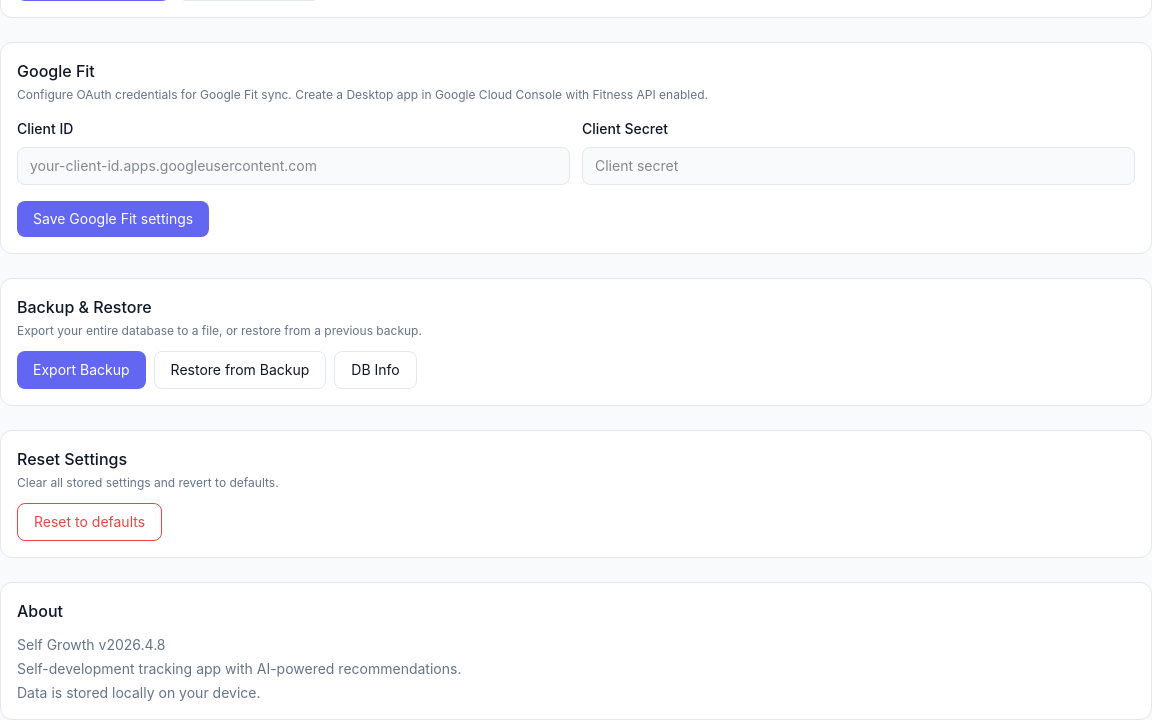
Test: SettingsPage › shows confirmation on reset click
(page scrolled)
Step 1. Click the button "Reset to defaults" → (90,522), box [17, 503, 162, 541]
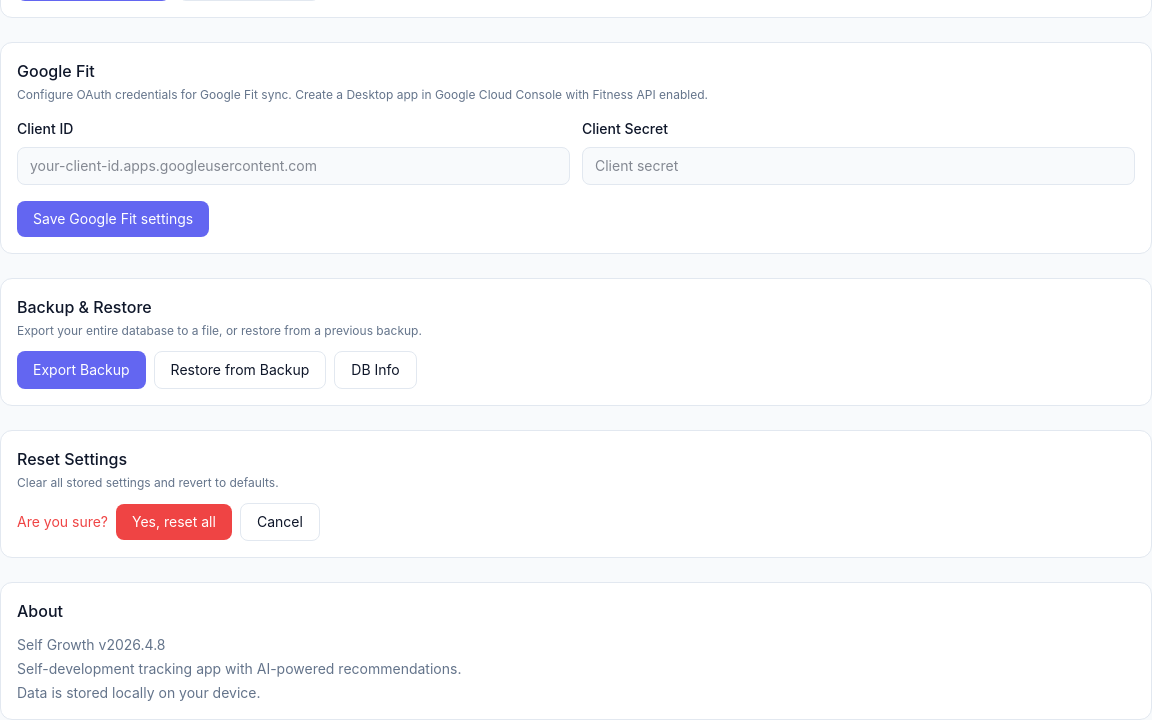
Expected: the text "Are you sure?" is shown, [17, 512, 108, 532]
Expected: the button "Yes, reset all" is shown, [116, 504, 232, 540]
